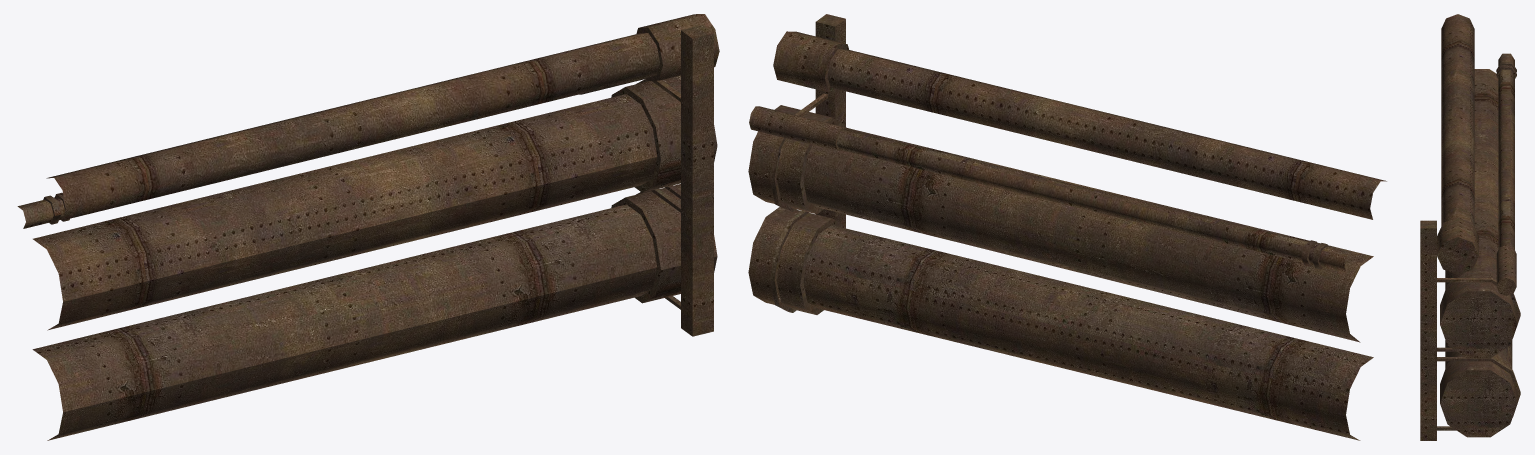
File: pipeset08d_64_001a.glb
3 views of the same model, side by side, from view 1: azimuth 30°, elevation 25°; view 2: azimuth 150°, elevation 25°; view 3: azimuth 270°, elevation 25° (orthographic). The views are drawn at different scales.
Visible parts, largest first — view 1: 0_pipeset_metal; view 2: 0_pipeset_metal; view 3: 0_pipeset_metal.
Part boxes in pixels (<box>): 0_pipeset_metal: <box>17,14,719,440</box>; 0_pipeset_metal: <box>748,14,1386,440</box>; 0_pipeset_metal: <box>1420,14,1520,440</box>.
Bounding box in the file's own units: 1.63 × 0.7112 × 0.3048.
Materials: 1 (1 with a texture image).
